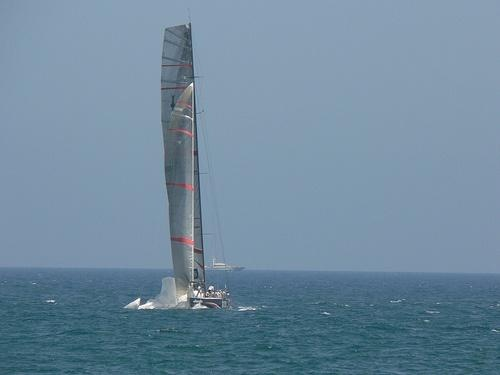boat: (161, 8, 231, 310)
